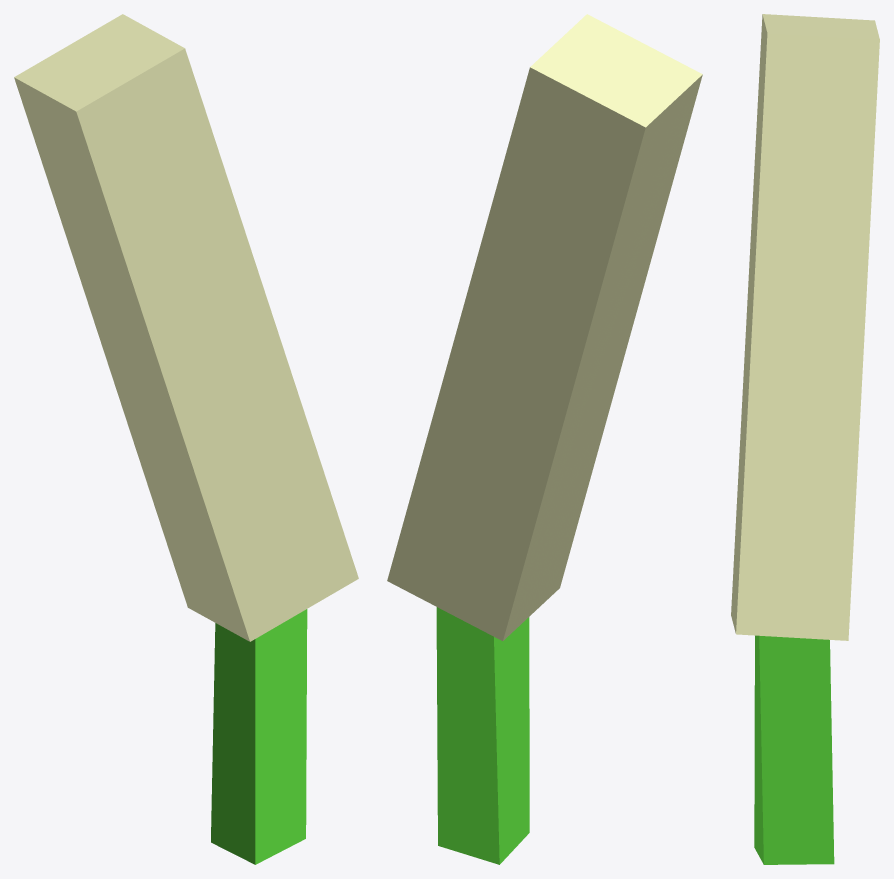
The model's file is cottontail_1.fbx.
3 views of the same model, side by side, from view 1: azimuth 30°, elevation 25°; view 2: azimuth 150°, elevation 25°; view 3: azimuth 270°, elevation 25° (orthographic). The views are drawn at different scales.
Parts seen in each view (by area): view 1: Cube.076; view 2: Cube.076; view 3: Cube.076.
Boxes of the visible parts, bbox=[...] form: Cube.076: bbox=[14, 14, 358, 864]; Cube.076: bbox=[387, 14, 702, 864]; Cube.076: bbox=[731, 14, 879, 864].
Size of the model in its own units: 53.04 by 155 by 26.52.
1 material, 1 textured.
